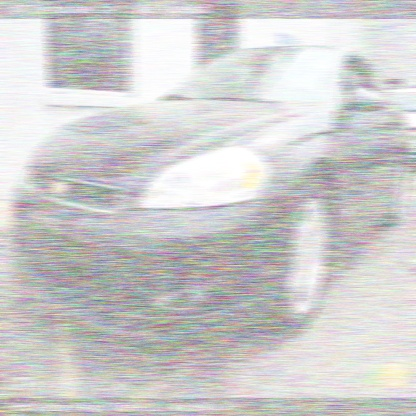Vehicle: (9, 44, 413, 343)
